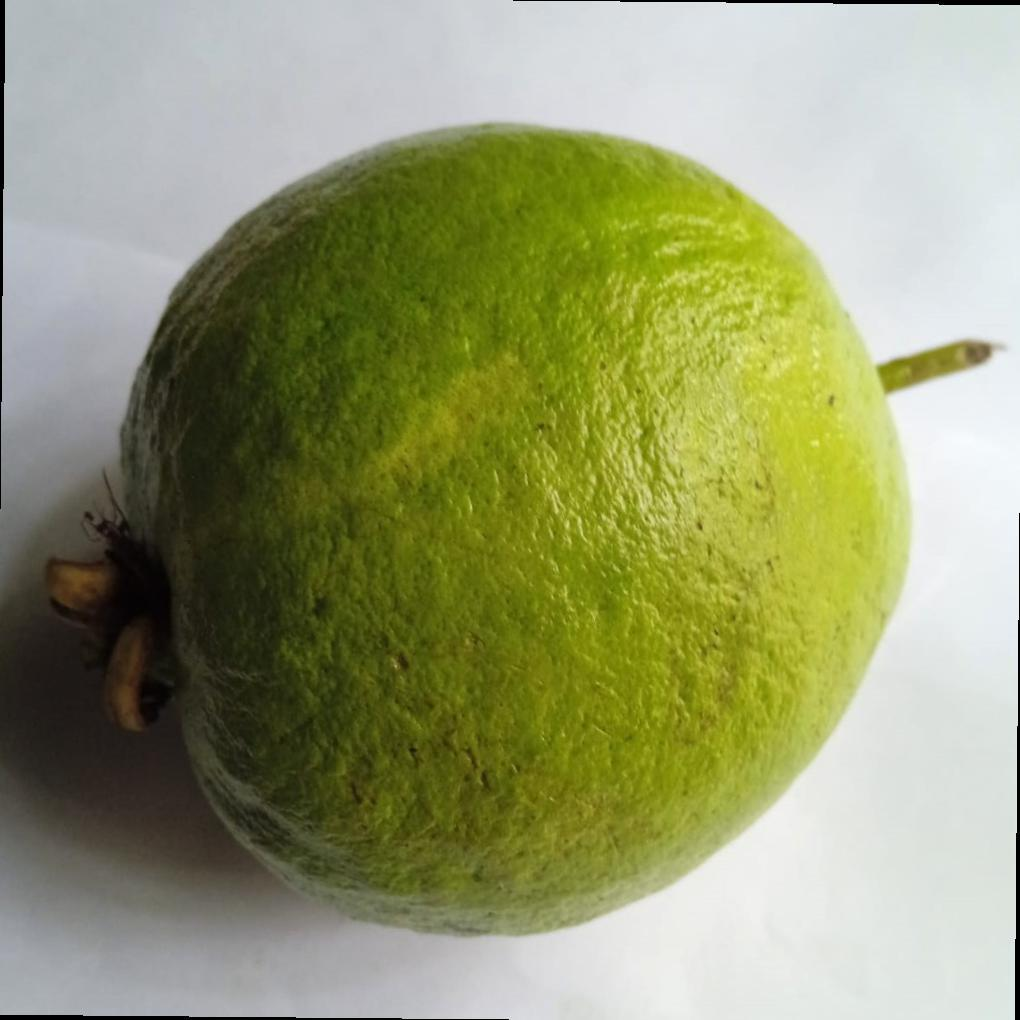FreshGuava: (100, 123, 981, 942)
